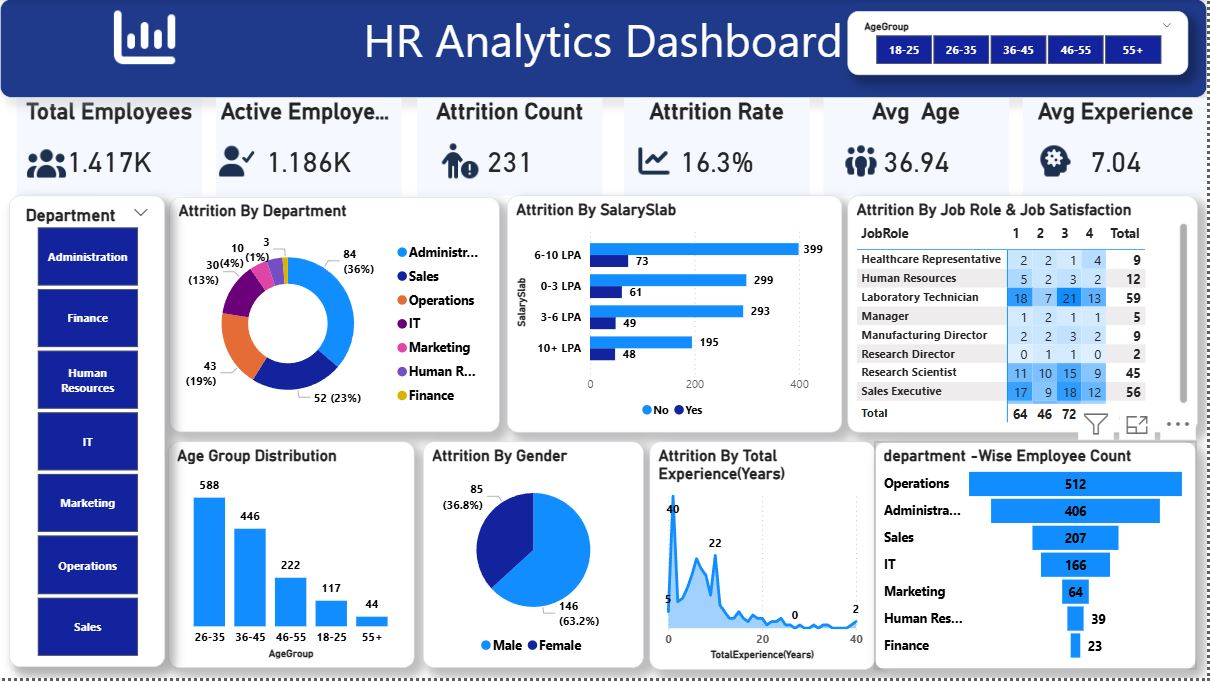

This screenshot's page, from the dashboard's own definition file:
{"tool":"powerbi","page":{"name":"Page 1","canvas":[1280,720],"ordinal":0},"visuals":[{"type":"card","title":"Total Employees","fields":{"Values":["CountNonNull(HR_Analytics-4.EmpID)"]},"box":[17.9,105.2,196.6,103.2],"z":0},{"type":"textbox","box":[0,0,1280,104.8],"z":1000},{"type":"card","title":"Active Employees","fields":{"Values":["Sum(HR_Analytics-4.EmployeeCount)"]},"box":[228.3,105.2,196.6,103.2],"z":2000},{"type":"card","title":"Attrition Count","fields":{"Values":["Sum(HR_Analytics-4.Attrition Count)"]},"box":[442.8,105.2,196.6,103.2],"z":3000},{"type":"card","title":"Attrition Rate","fields":{"Values":["HR_Analytics-4.Attrition Rate"]},"box":[661.2,105.2,196.6,103.2],"z":4000},{"type":"card","title":"Avg  Age","fields":{"Values":["Avg(HR_Analytics-4.Age)"]},"box":[873.6,105.2,196.6,103.2],"z":5000},{"type":"card","title":"Avg Experience","fields":{"Values":["Avg(HR_Analytics-4.YearsatCompany)"]},"box":[1084.1,105.2,196.6,103.2],"z":6000},{"type":"donutChart","title":"Attrition By Department","fields":{"Category":["HR_Analytics-4.Department"],"Y":["Sum(HR_Analytics-4.Attrition Count)"]},"box":[179,210,350,249],"z":7000},{"type":"clusteredBarChart","title":"Attrition By SalarySlab ","fields":{"Category":["HR_Analytics-4.SalarySlab"],"Y":["Sum(HR_Analytics-4.EmployeeCount)"],"Series":["HR_Analytics-4.Attrition"]},"box":[537,209,355,251],"z":8000},{"type":"pivotTable","title":"Attrition By Job Role & Job Satisfaction","fields":{"Rows":["HR_Analytics-4.JobRole"],"Columns":["HR_Analytics-4.JobSatisfaction"],"Values":["Sum(HR_Analytics-4.Attrition Count)"]},"box":[898,209,371,251.1],"z":9000},{"type":"columnChart","title":"Age Group Distribution","fields":{"Category":["HR_Analytics-4.AgeGroup"],"Y":["Sum(HR_Analytics-4.EmployeeCount)"]},"box":[178.2,469.9,261.3,240],"z":10000},{"type":"pieChart","title":"Attrition By Gender","fields":{"Category":["HR_Analytics-4.Gender"],"Y":["Sum(HR_Analytics-4.Attrition Count)"]},"box":[448,469,234,240],"z":11000},{"type":"areaChart","title":"Attrition By Total Experience(Years)","fields":{"Category":["HR_Analytics-4.TotalExperience(Years)"],"Y":["Sum(HR_Analytics-4.Attrition Count)"]},"box":[689,469,239,242],"z":12000},{"type":"funnel","title":"department -Wise Employee Count ","fields":{"Category":["HR_Analytics-4.Department"],"Y":["Sum(HR_Analytics-4.EmployeeCount)"]},"box":[928,469,341,242],"z":13000},{"type":"slicer","fields":{"Values":["HR_Analytics-4.AgeGroup"]},"box":[898,12,361,68],"z":14000},{"type":"slicer","fields":{"Values":["HR_Analytics-4.Department"]},"box":[9,209,165,500.3],"z":15000},{"type":"image","box":[28.6,141.6,41.4,66.8],"z":16000},{"type":"image","box":[229,138.4,41.4,66.8],"z":17000},{"type":"image","box":[466,138.4,41.4,66.8],"z":18000},{"type":"image","box":[672.8,138.4,41.4,66.8],"z":19000},{"type":"image","box":[892.3,138.4,41.4,66.8],"z":20000},{"type":"image","box":[1099.1,138.4,41.4,66.8],"z":21000},{"type":"image","box":[49.3,0,208.4,81.1],"z":22000}]}

Visuals, with their boxes in screenshot pixels (x1, y1, x2, y2), scaled from the page's 1280x720 canvas onto the 1210x682 screenshot:
"Total Employees" card: Rect(17, 100, 203, 197)
textbox: Rect(0, 0, 1209, 99)
"Active Employees" card: Rect(216, 100, 402, 197)
"Attrition Count" card: Rect(419, 100, 604, 197)
"Attrition Rate" card: Rect(625, 100, 811, 197)
"Avg  Age" card: Rect(826, 100, 1012, 197)
"Avg Experience" card: Rect(1025, 100, 1209, 197)
"Attrition By Department" donutChart: Rect(169, 199, 500, 435)
"Attrition By SalarySlab " clusteredBarChart: Rect(508, 198, 843, 436)
"Attrition By Job Role & Job Satisfaction" pivotTable: Rect(849, 198, 1200, 436)
"Age Group Distribution" columnChart: Rect(168, 445, 415, 672)
"Attrition By Gender" pieChart: Rect(424, 444, 645, 672)
"Attrition By Total Experience(Years)" areaChart: Rect(651, 444, 877, 673)
"department -Wise Employee Count " funnel: Rect(877, 444, 1200, 673)
slicer - HR_Analytics-4.AgeGroup: Rect(849, 11, 1190, 76)
slicer - HR_Analytics-4.Department: Rect(9, 198, 164, 672)
image: Rect(27, 134, 66, 197)
image: Rect(216, 131, 256, 194)
image: Rect(441, 131, 480, 194)
image: Rect(636, 131, 675, 194)
image: Rect(844, 131, 883, 194)
image: Rect(1039, 131, 1078, 194)
image: Rect(47, 0, 244, 77)
